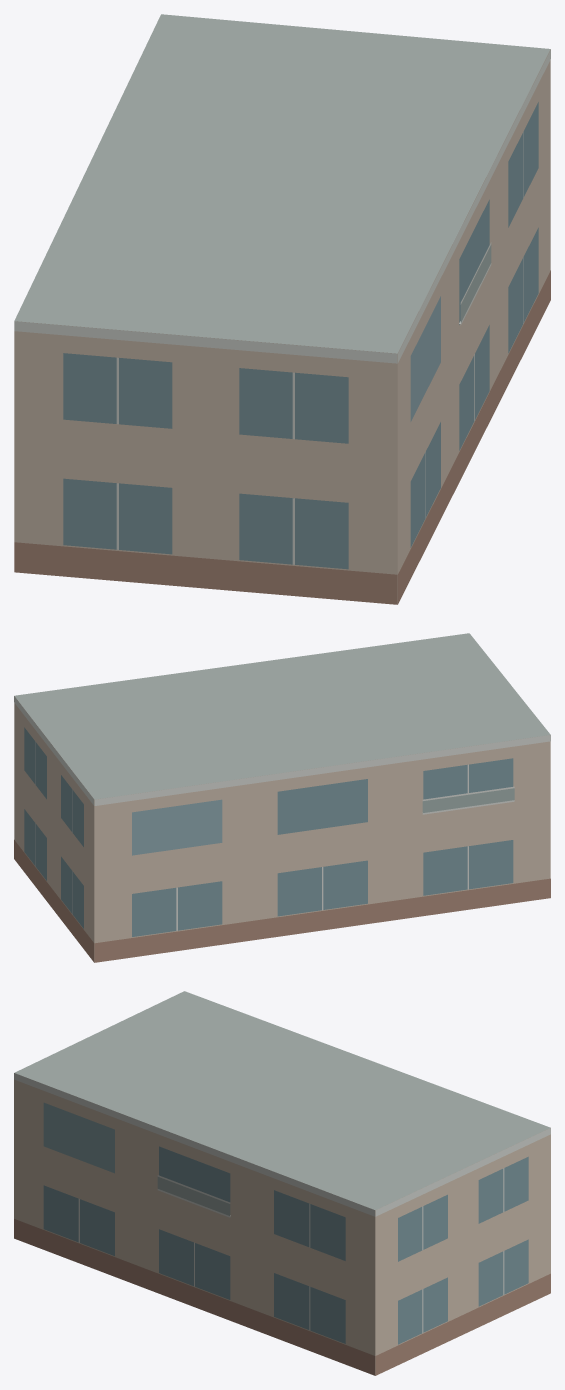
The model's file is survey-upis-32947184.glb.
The picture shows the model from 3 angles, top to bottom: view 1: azimuth 30°, elevation 25°; view 2: azimuth 150°, elevation 25°; view 3: azimuth 270°, elevation 25°; orthographic projection. The views are drawn at different scales.
Visible parts, largest first — view 1: survey-upis-32947184.tmp; view 2: survey-upis-32947184.tmp; view 3: survey-upis-32947184.tmp.
Boxes of the visible parts, x1,y1,x2,y2 form: survey-upis-32947184.tmp: (14,14,550,604); survey-upis-32947184.tmp: (14,633,550,962); survey-upis-32947184.tmp: (14,991,550,1375).
Size of the model in its own units: 17.33 by 6.1 by 17.93.
